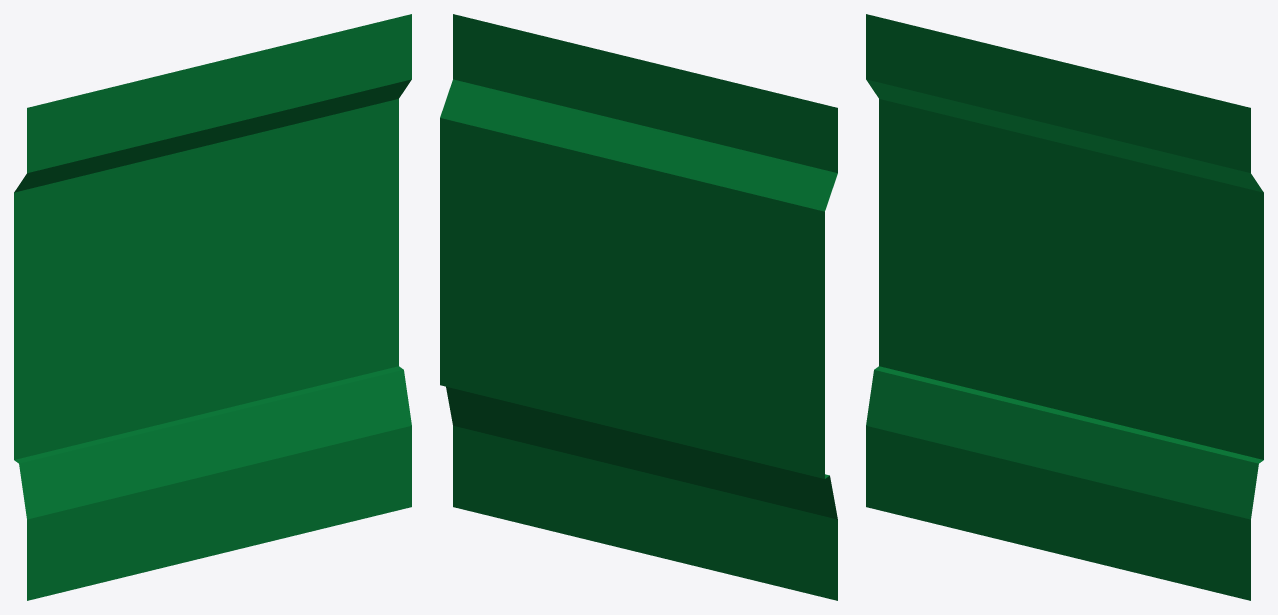
File: mesh_BuildingA_WallPlain_v2.fbx
3 views of the same model, side by side, from view 1: azimuth 30°, elevation 25°; view 2: azimuth 150°, elevation 25°; view 3: azimuth 330°, elevation 25° (orthographic).
Parts seen in each view (by area): view 1: mesh_BuildingA_WallPlain; view 2: mesh_BuildingA_WallPlain; view 3: mesh_BuildingA_WallPlain.
Boxes of the visible parts, <box> form: mesh_BuildingA_WallPlain: <box>14,14,411,600</box>; mesh_BuildingA_WallPlain: <box>440,14,837,600</box>; mesh_BuildingA_WallPlain: <box>866,14,1263,600</box>.
Size of the model in its own units: 164 by 200 by 9.58.
